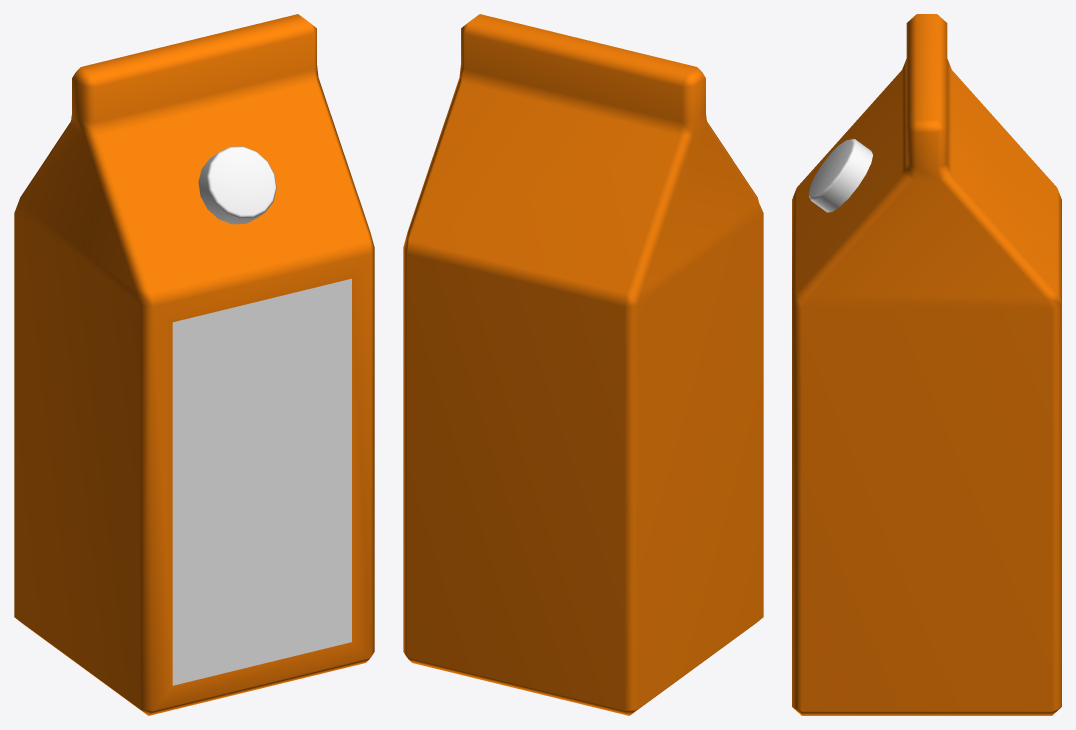
Rendered from carton_box.glb.
3 views of the same model, side by side, from view 1: azimuth 30°, elevation 25°; view 2: azimuth 150°, elevation 25°; view 3: azimuth 270°, elevation 25° (orthographic).
Parts seen in each view (by area): view 1: Carton_Box_1; view 2: Carton_Box_1; view 3: Carton_Box_1.
Part boxes in pixels (box(x1,y1,x2,y2)): Carton_Box_1: box(14, 14, 374, 715); Carton_Box_1: box(403, 14, 763, 715); Carton_Box_1: box(792, 14, 1061, 715).
Size of the model in its own units: 0.1549 by 0.3777 by 0.1549.
1 material, 1 textured.
